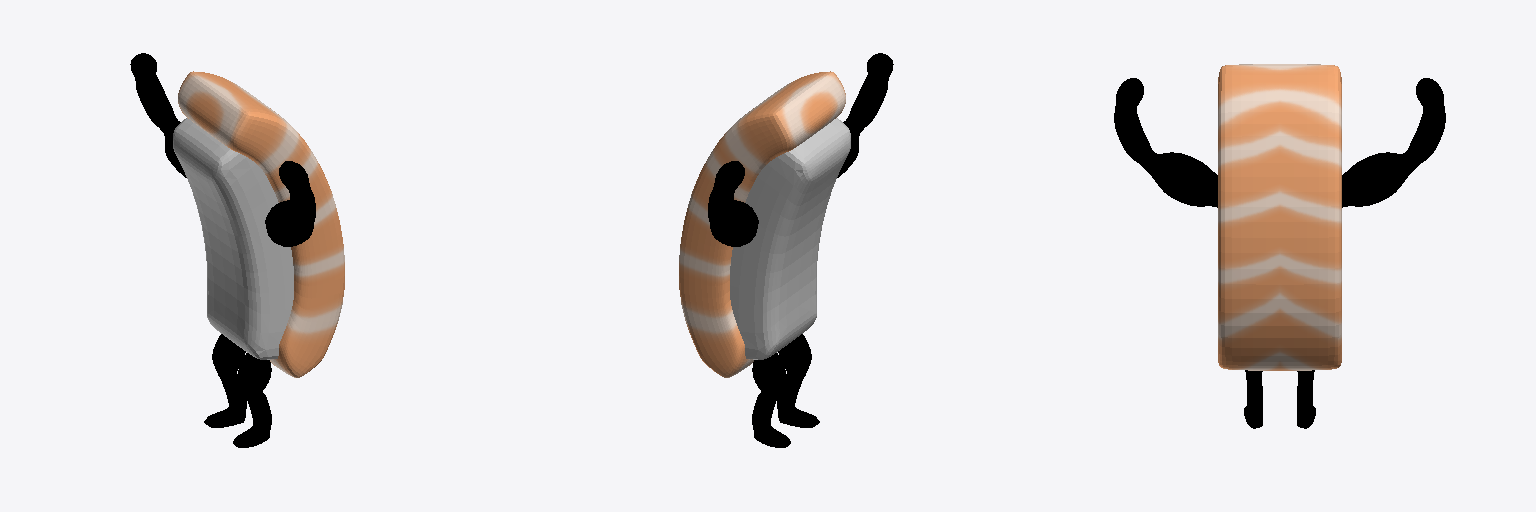
3 views of the same model, side by side, from view 1: azimuth 30°, elevation 25°; view 2: azimuth 150°, elevation 25°; view 3: azimuth 270°, elevation 25° (orthographic).
Parts seen in each view (by area): view 1: Cube, Cube.001, BezierCurve.001, BezierCurve.003; view 2: Cube, Cube.001, BezierCurve.001, BezierCurve.003; view 3: Cube.001, BezierCurve.001, BezierCurve.003.
Part boxes in pixels (x1,y1,x2,y2): Cube: (173,118,293,359); Cube.001: (178,71,344,377); BezierCurve.001: (130,53,315,246); BezierCurve.003: (204,334,271,447); Cube: (730,118,850,359); Cube.001: (679,71,845,377); BezierCurve.001: (708,53,893,246); BezierCurve.003: (752,334,819,447); Cube.001: (1218,64,1341,370); BezierCurve.001: (1114,78,1445,207); BezierCurve.003: (1244,370,1315,428).
Bounding box in the file's own units: 2.84 × 7.44 × 6.45.
Materials: 4 (1 with a texture image).